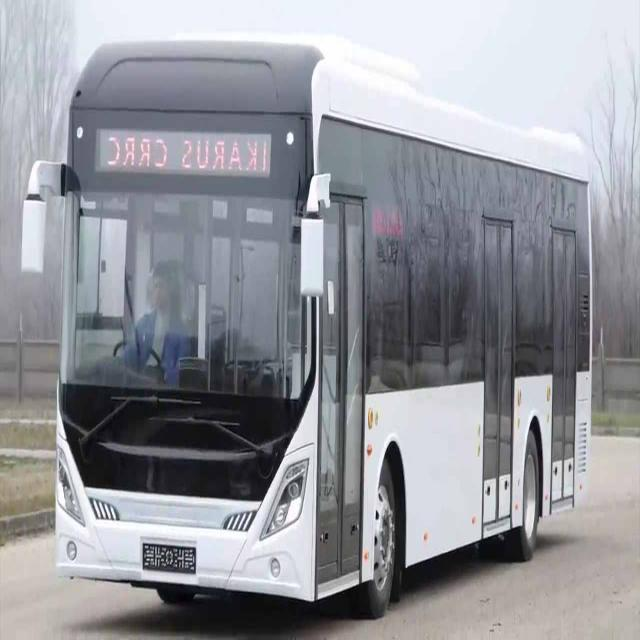bus: (26, 35, 594, 612)
